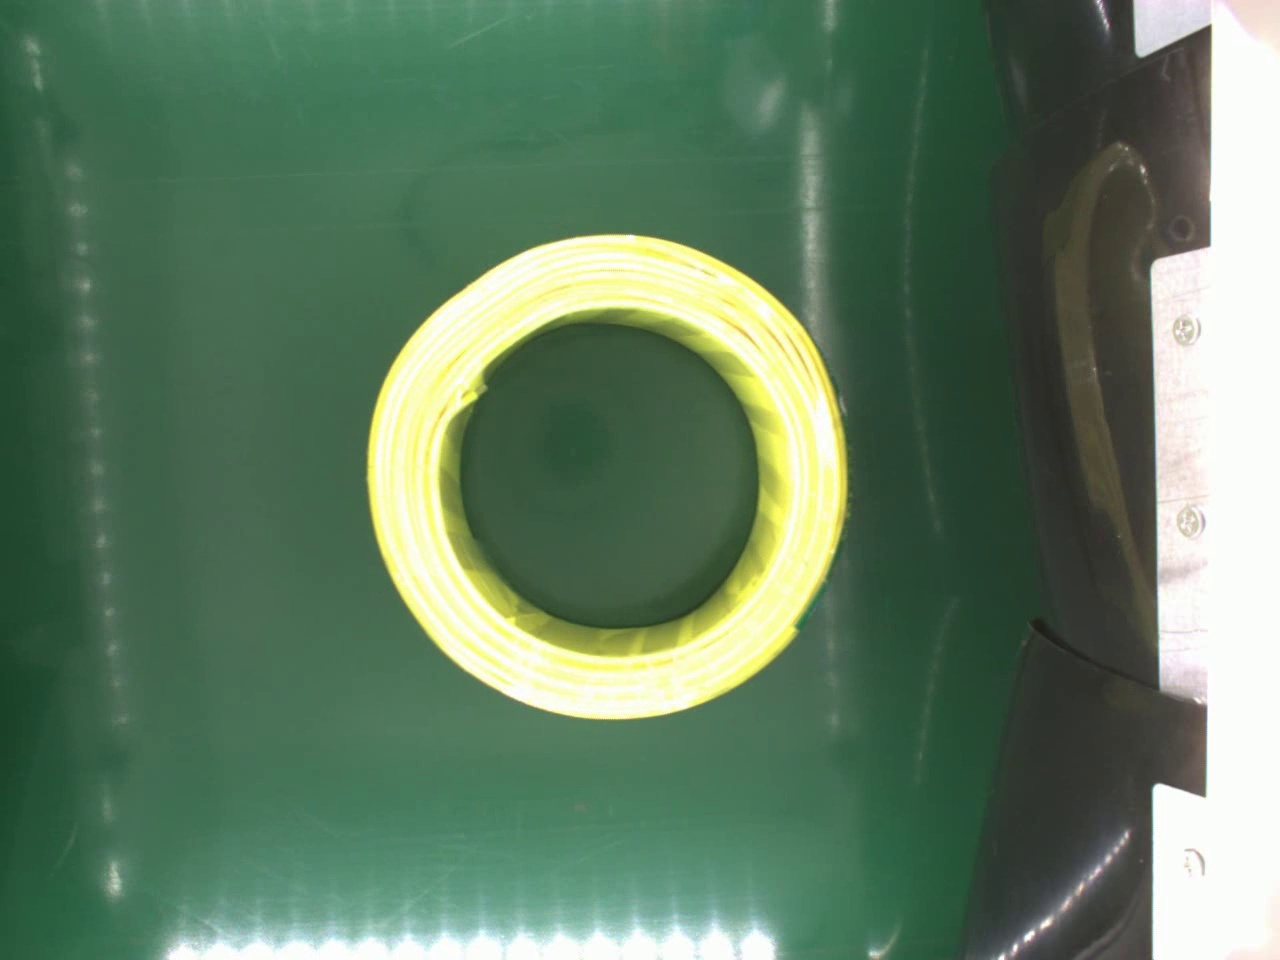yellow: (360, 231, 854, 723)
